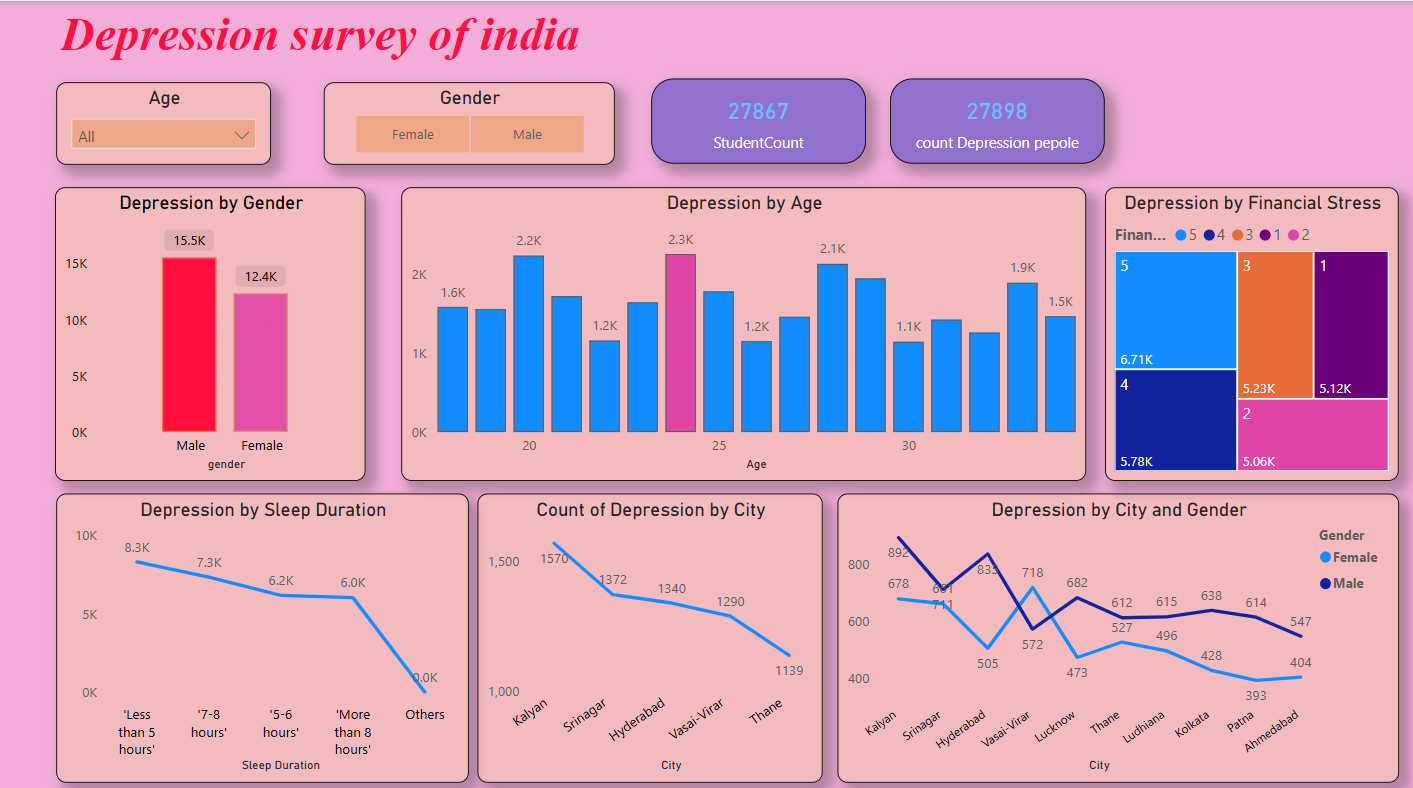

What the dashboard file says about the page in this screenshot:
{"tool":"powerbi","page":{"name":"Page 1","canvas":[1280,720],"ordinal":0},"visuals":[{"type":"columnChart","title":"Depression by Gender","fields":{"Y":["CountNonNull(student_depression_dataset.Depression)"],"Category":["student_depression_dataset.Gender"]},"box":[49.4,167.4,279.9,264.8],"z":0},{"type":"columnChart","title":"Depression by Age","fields":{"Y":["CountNonNull(student_depression_dataset.Depression)"],"Category":["student_depression_dataset.Age"]},"box":[362.3,167.4,617.5,264.8],"z":1000},{"type":"card","fields":{"Values":["student_depression_dataset.StudentCount"]},"box":[587.3,70,193.5,76.8],"z":2000},{"type":"card","fields":{"Values":["student_depression_dataset.Measure"]},"box":[802.7,70,193.5,76.8],"z":3000},{"type":"lineChart","title":"Depression by Sleep Duration","fields":{"Category":["student_depression_dataset.Sleep Duration"],"Y":["CountNonNull(student_depression_dataset.Depression)"]},"box":[50.8,444.6,371.9,260.7],"z":4000},{"type":"slicer","title":"Age","fields":{"Values":["student_depression_dataset.Age"]},"box":[50.8,72.7,193.5,74.1],"z":5000},{"type":"slicer","title":"Gender","fields":{"Values":["student_depression_dataset.Gender"]},"box":[292.3,72.7,262.1,74.1],"z":6000},{"type":"lineChart","fields":{"Category":["student_depression_dataset.City"],"Y":["CountNonNull(student_depression_dataset.Depression)"]},"box":[430.9,444.6,311.5,260.7],"z":7000},{"type":"lineChart","title":"Depression  by City and Gender","fields":{"Category":["student_depression_dataset.City"],"Series":["student_depression_dataset.Gender"],"Y":["CountNonNull(student_depression_dataset.Depression)"]},"box":[754.7,444.6,506.3,260.7],"z":8000},{"type":"textbox","box":[50,0,574,71],"z":9000},{"type":"treemap","title":"Depression by Financial Stress","fields":{"Group":["student_depression_dataset.Financial Stress"],"Values":["CountNonNull(student_depression_dataset.Depression)"]},"box":[996.2,167.4,264.8,264.8],"z":10000}]}

Visuals, with their boxes in screenshot pixels (x1, y1, x2, y2), scaled from the page's 1280x720 canvas onto the 1413x788 screenshot:
"Depression by Gender" columnChart: bbox(55, 183, 364, 473)
"Depression by Age" columnChart: bbox(400, 183, 1082, 473)
card - student_depression_dataset.StudentCount: bbox(648, 77, 862, 161)
card - student_depression_dataset.Measure: bbox(886, 77, 1100, 161)
"Depression by Sleep Duration" lineChart: bbox(56, 487, 467, 772)
"Age" slicer: bbox(56, 80, 270, 161)
"Gender" slicer: bbox(323, 80, 612, 161)
lineChart - student_depression_dataset.City x CountNonNull(student_depression_dataset.Depression): bbox(476, 487, 820, 772)
"Depression  by City and Gender" lineChart: bbox(833, 487, 1392, 772)
textbox: bbox(55, 0, 689, 78)
"Depression by Financial Stress" treemap: bbox(1100, 183, 1392, 473)
